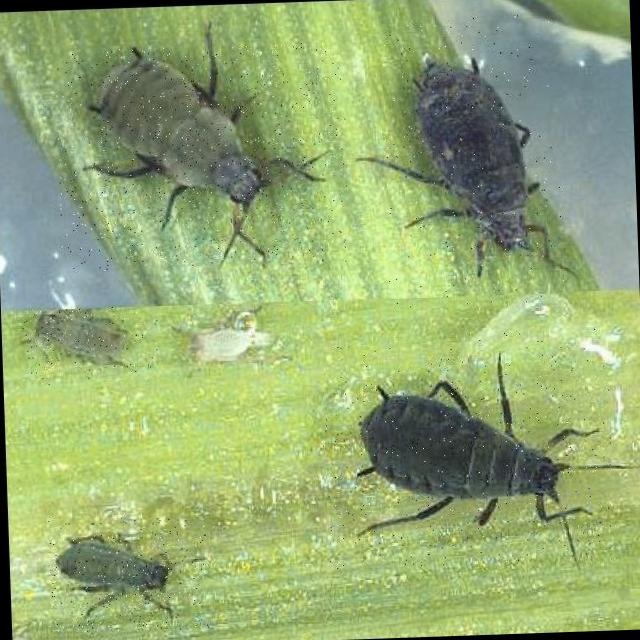aphid: (318, 326, 616, 569), (53, 40, 349, 271), (378, 12, 564, 310), (47, 514, 209, 632), (19, 302, 158, 384)
